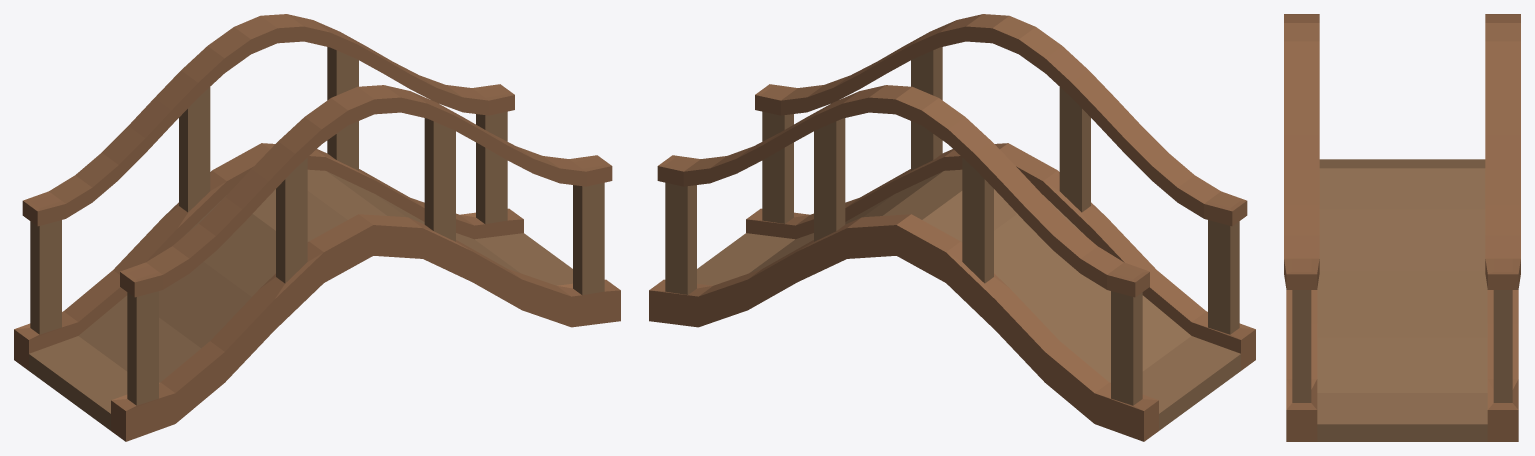
File: bridge.fbx
3 views of the same model, side by side, from view 1: azimuth 30°, elevation 25°; view 2: azimuth 150°, elevation 25°; view 3: azimuth 270°, elevation 25° (orthographic). The views are drawn at different scales.
Visible parts, largest first — view 1: bridge_LOD0; view 2: bridge_LOD0; view 3: bridge_LOD0.
Part boxes in pixels (box(x1,y1,x2,y2)): bridge_LOD0: box(14, 14, 620, 441); bridge_LOD0: box(649, 14, 1255, 441); bridge_LOD0: box(1284, 14, 1520, 441).
Size of what is drawn, in the model's own units: 697 by 381 by 279.
